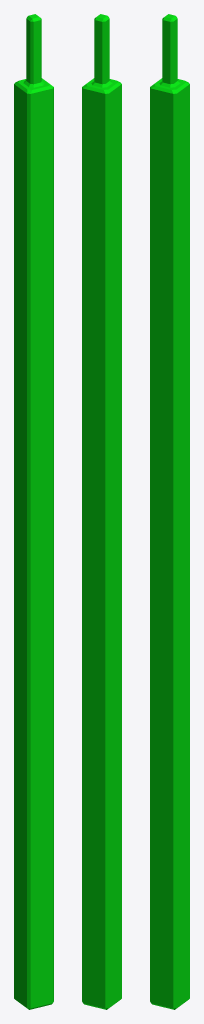
Rendered from Pillar_part_3.fbx.
3 views of the same model, side by side, from view 1: azimuth 30°, elevation 25°; view 2: azimuth 150°, elevation 25°; view 3: azimuth 330°, elevation 25° (orthographic).
Parts seen in each view (by area): view 1: Pillar_part_3; view 2: Pillar_part_3; view 3: Pillar_part_3.
Boxes of the visible parts, bbox=[...] form: Pillar_part_3: bbox=[14, 14, 53, 1009]; Pillar_part_3: bbox=[82, 14, 121, 1009]; Pillar_part_3: bbox=[150, 14, 189, 1009].
Bounding box in the file's own units: 12.26 × 431 × 12.26.
